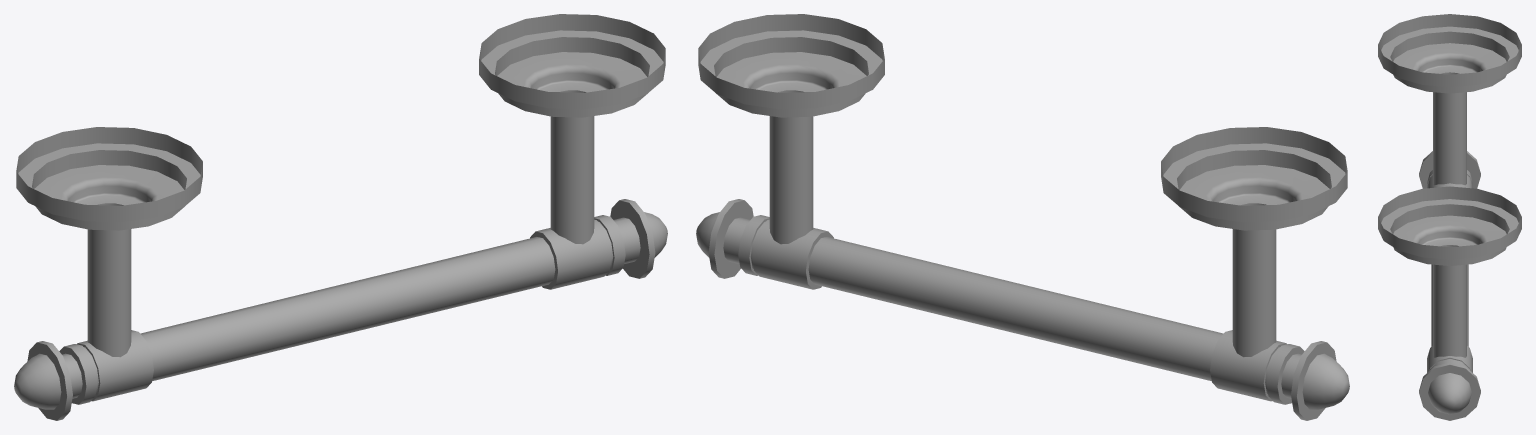
Rendered from ToiletPaperHanger_26_ToiletPaperHanger_26_0.obj.
3 views of the same model, side by side, from view 1: azimuth 30°, elevation 25°; view 2: azimuth 150°, elevation 25°; view 3: azimuth 270°, elevation 25° (orthographic). The views are drawn at different scales.
Visible parts, largest first — view 1: ToiletPaperHanger_26; view 2: ToiletPaperHanger_26; view 3: ToiletPaperHanger_26.
Part boxes in pixels (x1=…): ToiletPaperHanger_26: x1=14, y1=14, x2=667, y2=420; ToiletPaperHanger_26: x1=696, y1=14, x2=1349, y2=420; ToiletPaperHanger_26: x1=1378, y1=14, x2=1521, y2=420.
Bounding box in the file's own units: 0.2877 × 0.1007 × 0.0725.
